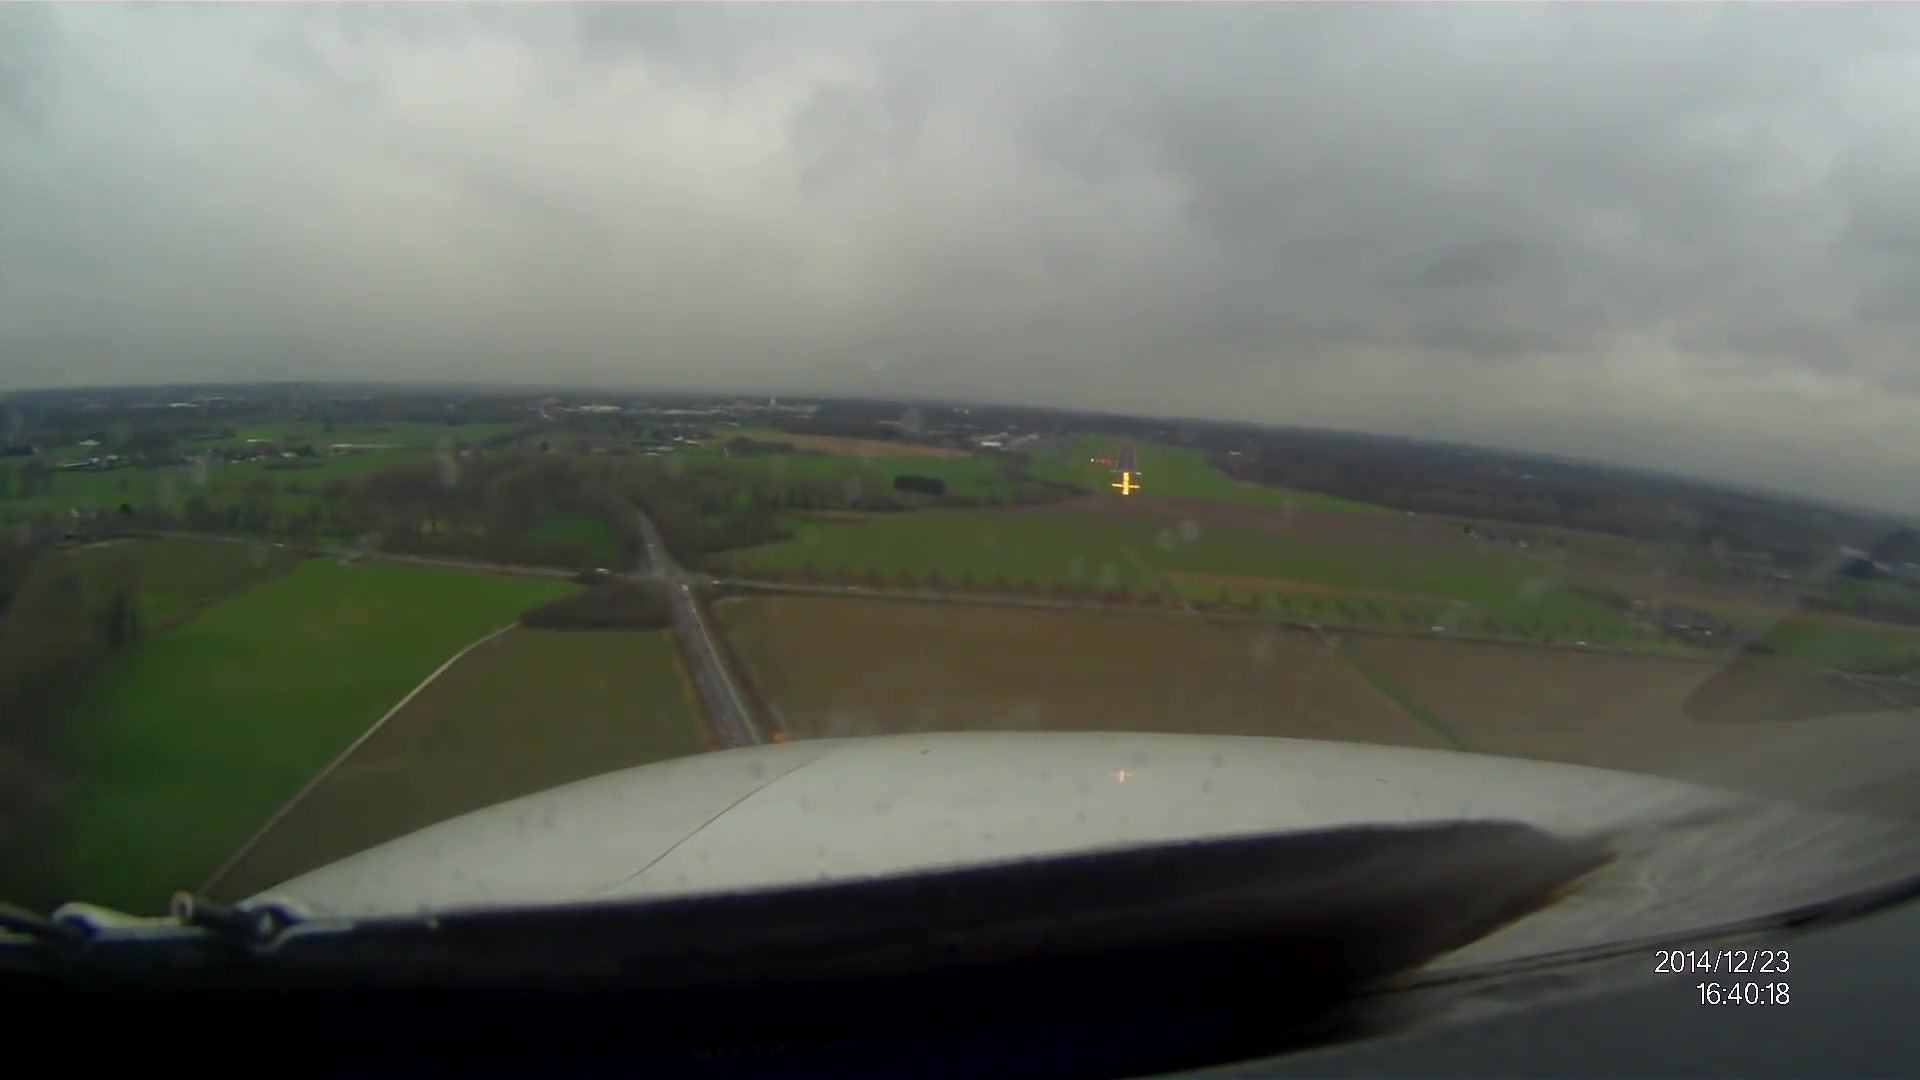runway: (1112, 438, 1139, 488)
